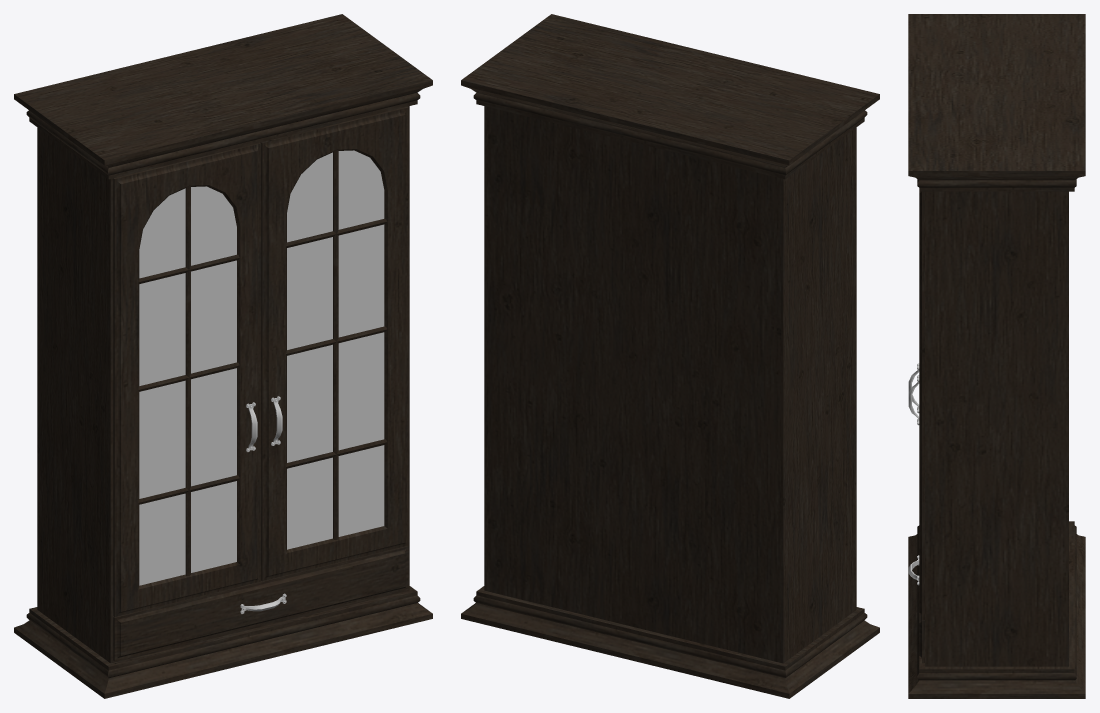
File: display_cabinet_mp_2_2.fbx
The picture shows the model from 3 angles, left to right: view 1: azimuth 30°, elevation 25°; view 2: azimuth 150°, elevation 25°; view 3: azimuth 270°, elevation 25°; orthographic projection. The views are drawn at different scales.
Visible parts, largest first — view 1: display_cabinet_mp_2_2, display_cabinet_mp_2_2_drawer; view 2: display_cabinet_mp_2_2; view 3: display_cabinet_mp_2_2, display_cabinet_mp_2_2_drawer.
Boxes of the visible parts, x1,y1,x2,y2 form: display_cabinet_mp_2_2: (14, 14, 432, 698); display_cabinet_mp_2_2_drawer: (113, 546, 408, 661); display_cabinet_mp_2_2: (461, 14, 879, 698); display_cabinet_mp_2_2: (908, 14, 1085, 698); display_cabinet_mp_2_2_drawer: (908, 555, 924, 662).
Size of the model in its own units: 1.34 by 2.1 by 0.64.
